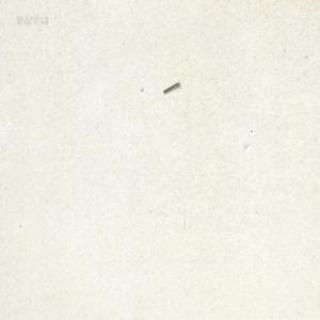Bolttrack_idkeyframe: (161, 79, 179, 92)
